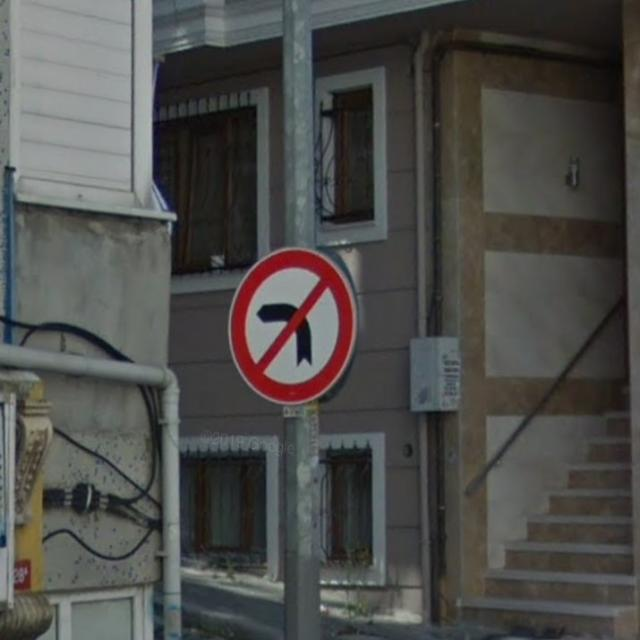soladonulmez: (228, 248, 358, 403)
